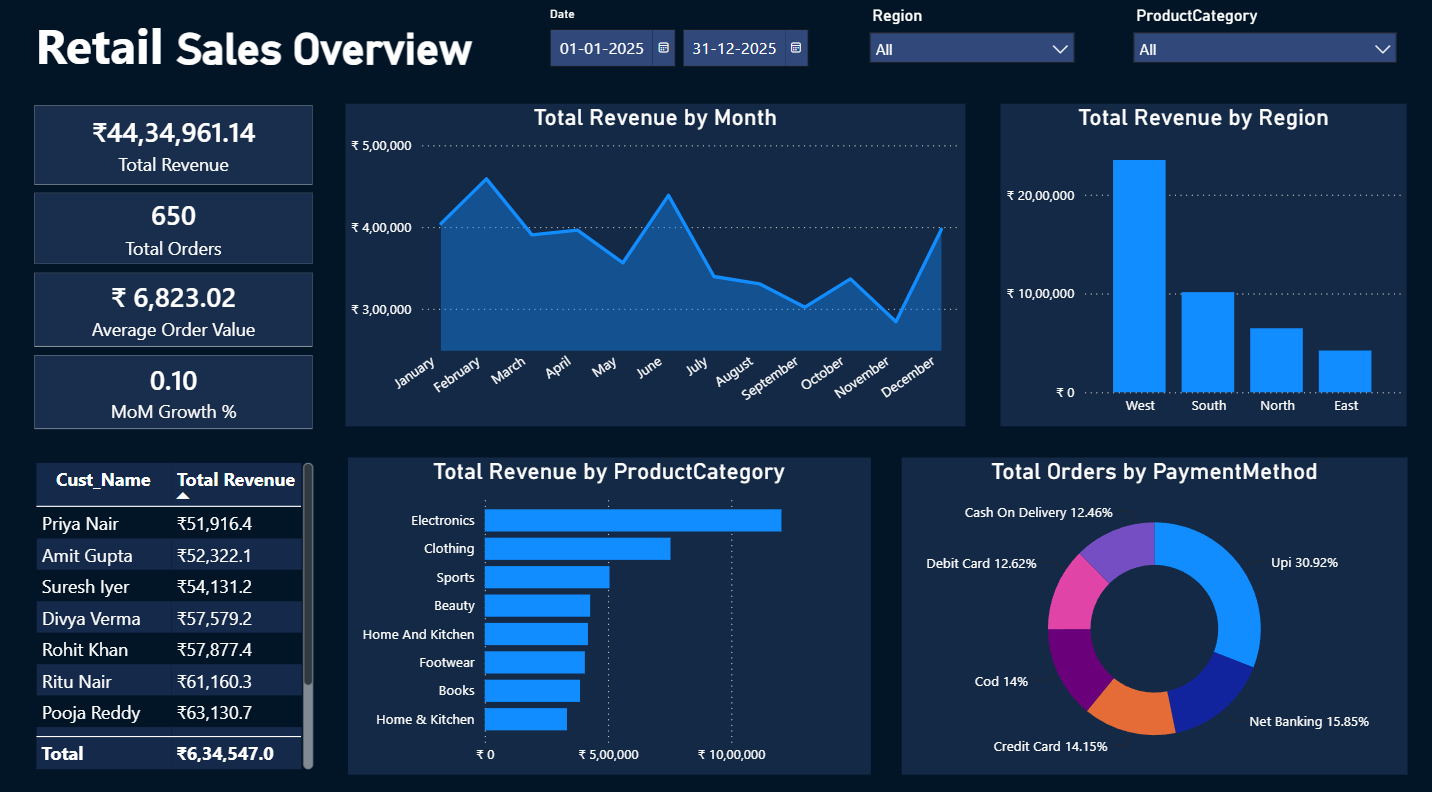

The dashboard page shown, as its layout file describes it:
{"tool":"powerbi","page":{"name":"Page 1","canvas":[1280,720],"ordinal":0},"visuals":[{"type":"lineChart","fields":{"Y":["RetailSales.Total Revenue"],"Category":["DateTable.Month"]},"box":[309.5,96.8,552.1,287.2],"z":0},{"type":"barChart","fields":{"Y":["RetailSales.Total Revenue"],"Category":["RetailSales.ProductCategory"]},"box":[311.7,411.9,465.3,282.7],"z":1000},{"type":"donutChart","fields":{"Category":["RetailSales.PaymentMethod"],"Y":["RetailSales.Total Orders"]},"box":[804.9,412.3,450.3,282.2],"z":2000},{"type":"clusteredColumnChart","fields":{"Y":["RetailSales.Total Revenue"],"Category":["RetailSales.Region"]},"box":[893.3,96.9,362,287.1],"z":3000},{"type":"tableEx","fields":{"Values":["RetailSales.CustomerName","RetailSales.Total Revenue"]},"box":[28.2,412.3,257.7,282.2],"z":4000},{"type":"cardVisual","fields":{"Data":["RetailSales.Total Revenue"]},"box":[27.8,93.5,257.1,80.1],"z":5000},{"type":"cardVisual","fields":{"Data":["RetailSales.MoM Growth %"]},"box":[27.8,316.1,257.1,75.7],"z":6000},{"type":"cardVisual","fields":{"Data":["RetailSales.Total Orders"]},"box":[27.8,171.4,257.1,73.5],"z":7000},{"type":"cardVisual","fields":{"Data":["RetailSales.Average Order Value"]},"box":[27.8,242.7,257.1,75.7],"z":8000},{"type":"slicer","fields":{"Values":["DateTable.Date"]},"box":[478.7,5.6,288.3,73.5],"z":9000},{"type":"slicer","fields":{"Values":["RetailSales.Region"]},"box":[765.9,4.5,202.6,73.5],"z":10000},{"type":"slicer","fields":{"Values":["RetailSales.ProductCategory"]},"box":[1000.7,4.5,254.9,73.5],"z":11000},{"type":"textbox","box":[16.7,10,434.1,83.5],"z":12000}]}

Visuals, with their boxes in screenshot pixels (x1, y1, x2, y2), scaled from the page's 1280x720 canvas onto the 1432x792 screenshot:
lineChart - RetailSales.Total Revenue x DateTable.Month: <box>346,106,964,422</box>
barChart - RetailSales.Total Revenue x RetailSales.ProductCategory: <box>349,453,869,764</box>
donutChart - RetailSales.PaymentMethod x RetailSales.Total Orders: <box>900,454,1404,764</box>
clusteredColumnChart - RetailSales.Total Revenue x RetailSales.Region: <box>999,107,1404,422</box>
tableEx - RetailSales.CustomerName x RetailSales.Total Revenue: <box>32,454,320,764</box>
cardVisual - RetailSales.Total Revenue: <box>31,103,319,191</box>
cardVisual - RetailSales.MoM Growth %: <box>31,348,319,431</box>
cardVisual - RetailSales.Total Orders: <box>31,189,319,269</box>
cardVisual - RetailSales.Average Order Value: <box>31,267,319,350</box>
slicer - DateTable.Date: <box>536,6,858,87</box>
slicer - RetailSales.Region: <box>857,5,1084,86</box>
slicer - RetailSales.ProductCategory: <box>1120,5,1405,86</box>
textbox: <box>19,11,504,103</box>
